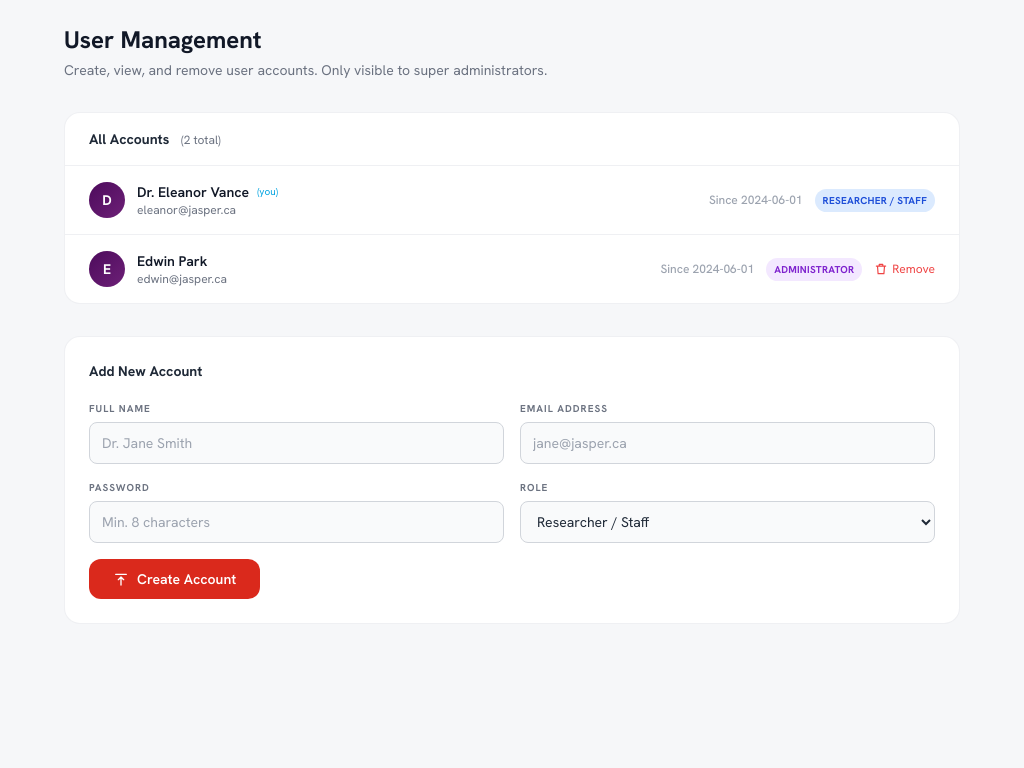
shows a validation error when form is submitted with empty fields
The image size is (1024, 768).
Click the button "Create Account": (175, 579) [89, 559, 260, 599]
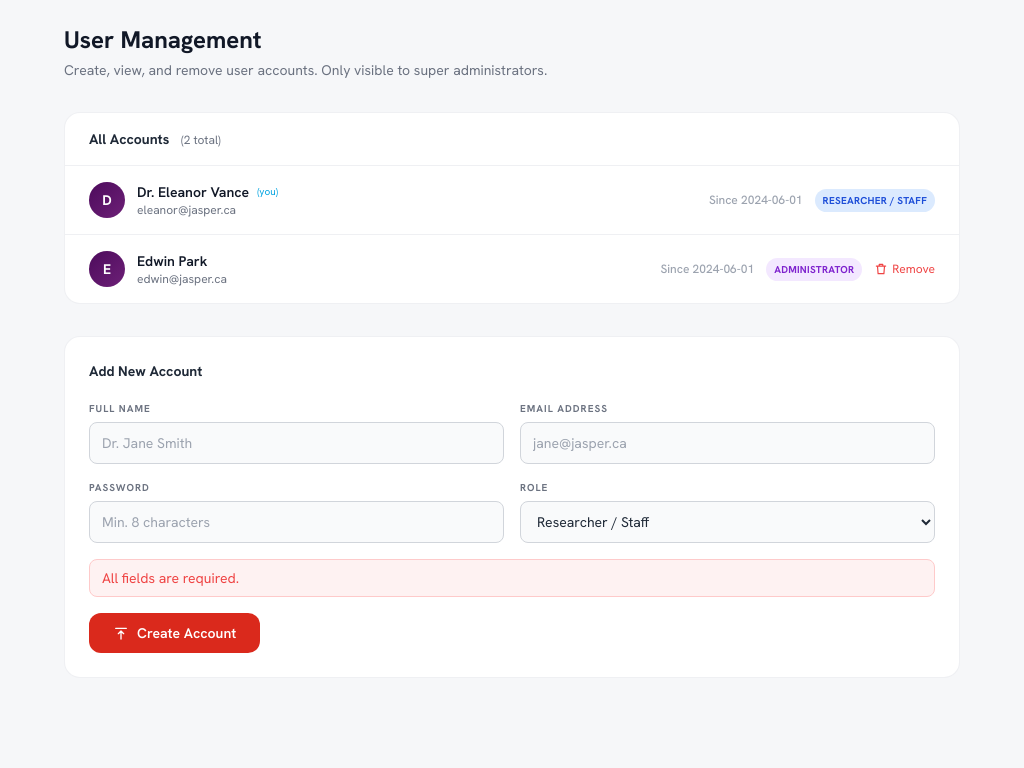
expect the text "All fields are required." is shown: met, box [89, 559, 935, 597]
